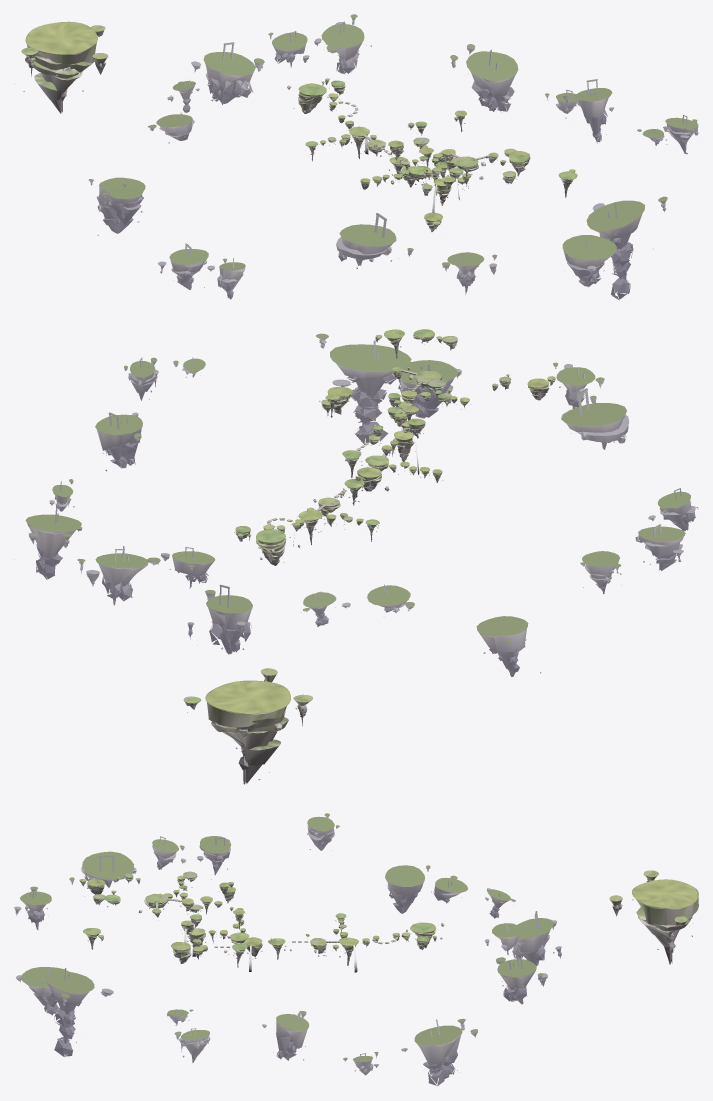
File: world.glb
3 renders of one model, top to bottom at view 1: azimuth 30°, elevation 25°; view 2: azimuth 150°, elevation 25°; view 3: azimuth 270°, elevation 25°, orthographic. The views are drawn at different scales.
Parts seen in each view (by area): view 1: distant__haze, islands__grass (×2), islands__rock (×2), distant__drift1, distant__l2__rock, distant__l2__grass, distant__drift2, distant__drift0, distant__drift3; view 2: distant__haze, islands__grass (×2), islands__rock (×2), distant__drift1, distant__l2__rock, distant__l2__grass, distant__drift2, distant__drift0, distant__drift3; view 3: distant__haze, islands__grass (×2), islands__rock (×2), distant__drift1, distant__l2__rock, distant__l2__grass, distant__drift2, distant__drift0, distant__drift3.
Part boxes in pixels (x1,y1,x2,y2): distant__haze: (88, 14, 698, 299); islands__grass (×2): (298, 78, 577, 224); islands__rock (×2): (287, 80, 575, 231); distant__drift1: (586, 196, 667, 300); distant__l2__rock: (14, 23, 108, 113); distant__l2__grass: (21, 21, 107, 59); distant__drift2: (336, 213, 413, 268); distant__drift0: (562, 235, 616, 287); distant__drift3: (442, 252, 497, 294); distant__haze: (14, 357, 698, 676); islands__grass (×2): (235, 329, 555, 542); islands__rock (×2): (234, 334, 555, 565); distant__drift1: (316, 333, 425, 443); distant__l2__rock: (185, 673, 308, 784); distant__l2__grass: (183, 668, 312, 714); distant__drift2: (561, 388, 629, 449); distant__drift0: (398, 360, 461, 418); distant__drift3: (553, 362, 604, 408); distant__haze: (152, 813, 561, 1086); islands__grass (×2): (79, 871, 436, 951); islands__rock (×2): (80, 876, 444, 967); distant__drift1: (45, 968, 113, 1057); distant__l2__rock: (611, 874, 698, 964); distant__l2__grass: (609, 870, 698, 922); distant__drift2: (69, 851, 136, 888); distant__drift0: (16, 967, 68, 1015); distant__drift3: (14, 886, 51, 930).
Bounding box in the file's own units: 401 × 107 × 505.
